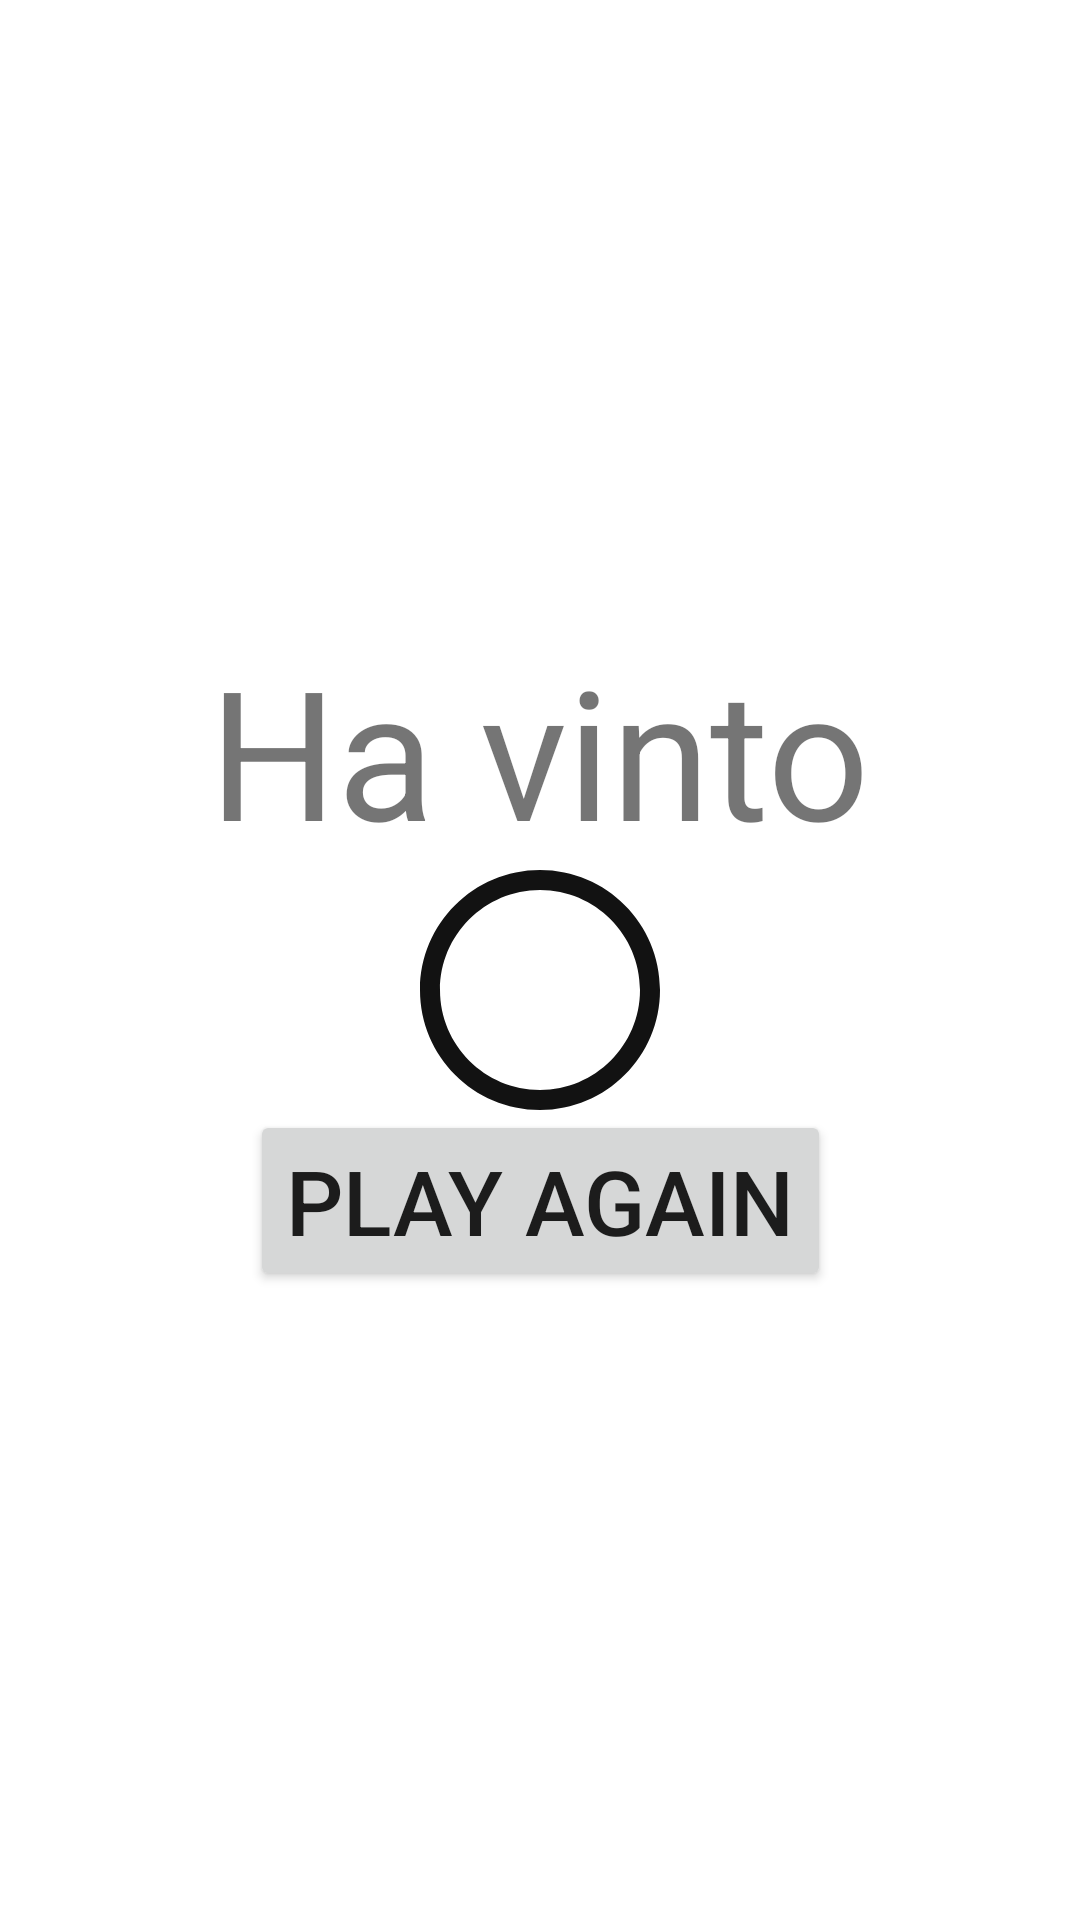

Icons on this 1080 × 1920 Android screen, each with the point to tap as [x,y]:
circle mark: [540,990]
